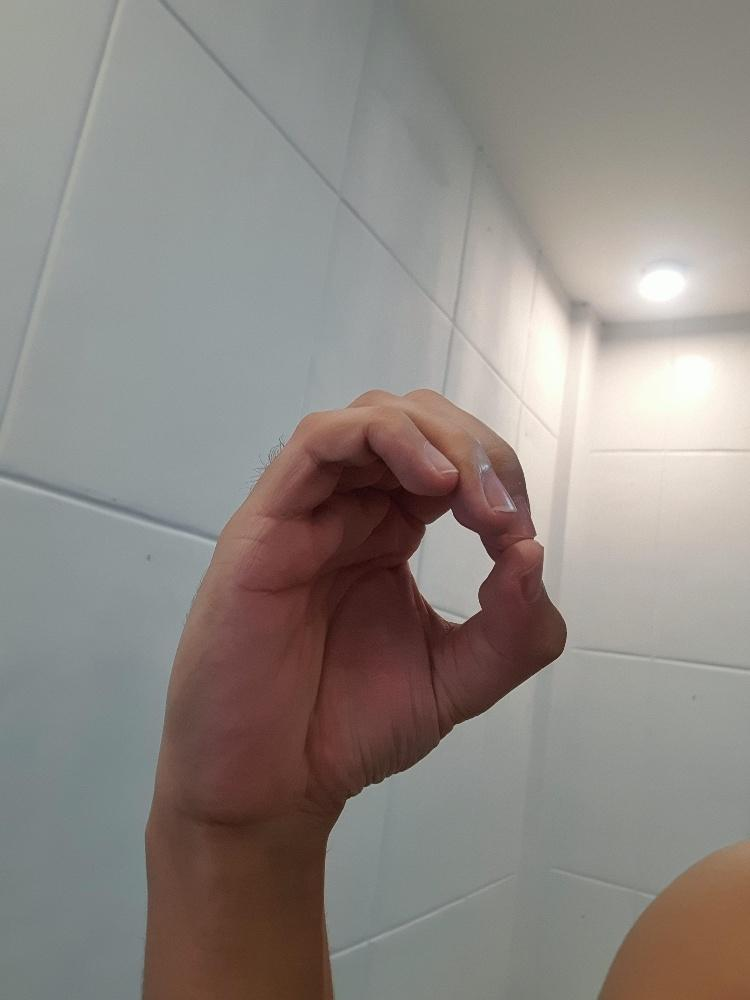o: (151, 383, 570, 828)
